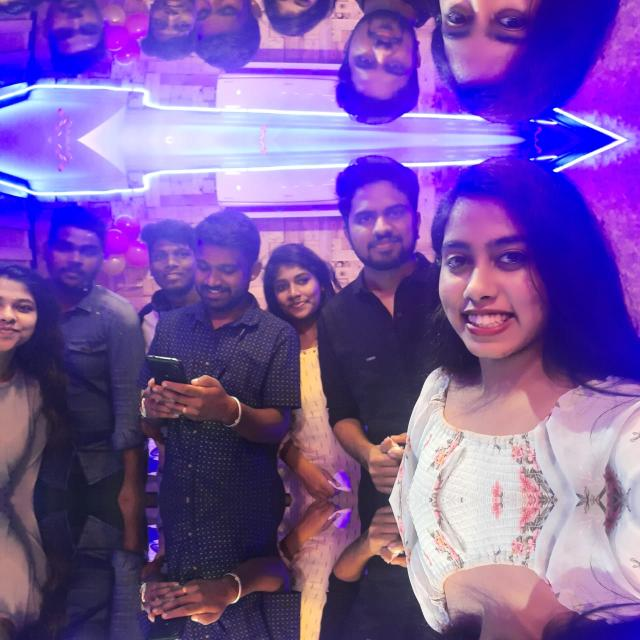person: (422, 166, 626, 496), (43, 209, 163, 463), (422, 504, 625, 640), (332, 162, 436, 408), (422, 0, 625, 114), (262, 241, 351, 424), (186, 219, 264, 411), (0, 255, 58, 497), (43, 537, 163, 640), (332, 0, 435, 118), (43, 0, 163, 71), (0, 503, 58, 640), (138, 220, 195, 326), (261, 576, 350, 640), (332, 591, 435, 640), (186, 0, 263, 61), (186, 589, 263, 640), (261, 0, 350, 39), (137, 0, 194, 60), (0, 0, 58, 25)
